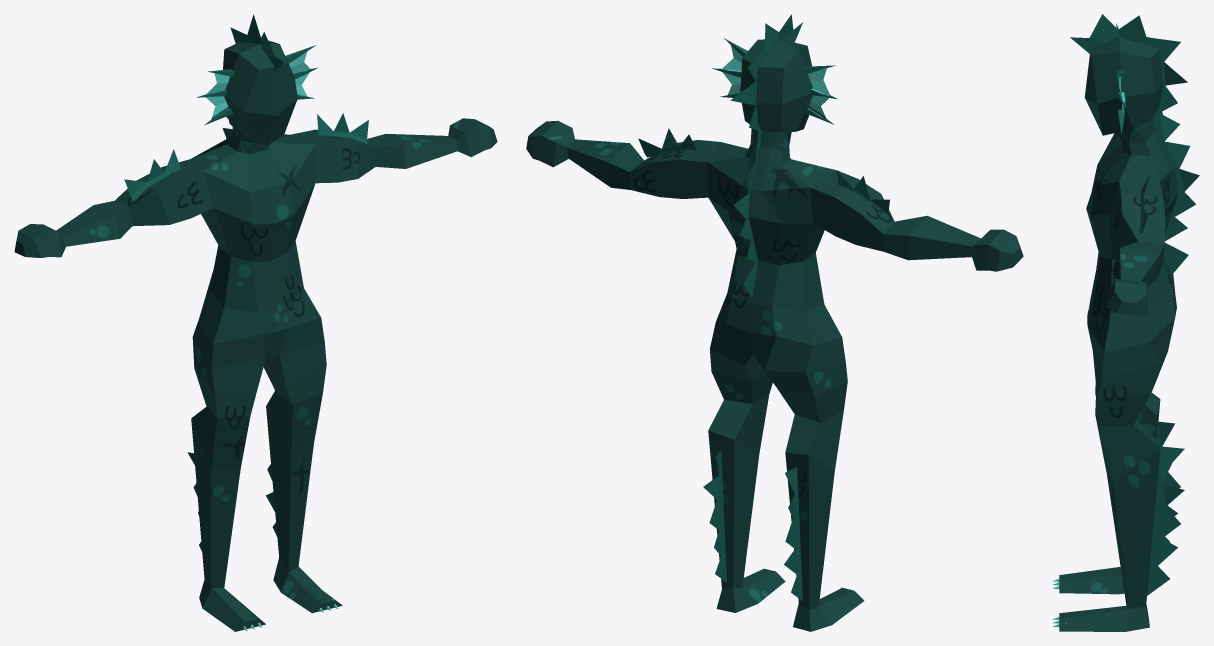
Rendered from fish man.fbx.
The picture shows the model from 3 angles, left to right: view 1: azimuth 30°, elevation 25°; view 2: azimuth 150°, elevation 25°; view 3: azimuth 270°, elevation 25°; orthographic projection. The views are drawn at different scales.
Visible parts, largest first — view 1: fish man, Object001; view 2: fish man, Object001; view 3: fish man, Object001.
Boxes of the visible parts, x1,y1,x2,y2 form: fish man: (14,40,497,631); Object001: (124,14,368,631); fish man: (526,39,1023,631); Object001: (638,14,889,600); fish man: (1059,37,1178,631); Object001: (1052,14,1199,627).
Bounding box in the file's own units: 89.77 × 104 × 23.69.
